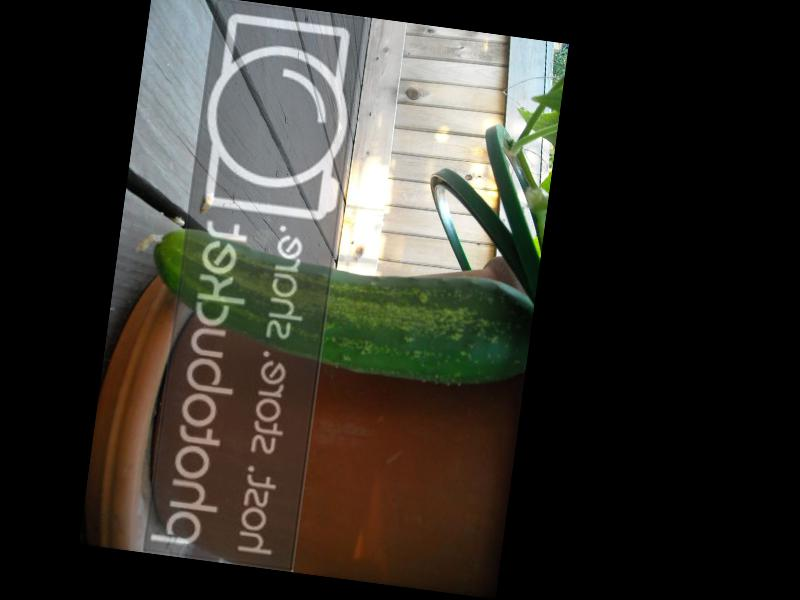Cucumber: (125, 222, 534, 393)
